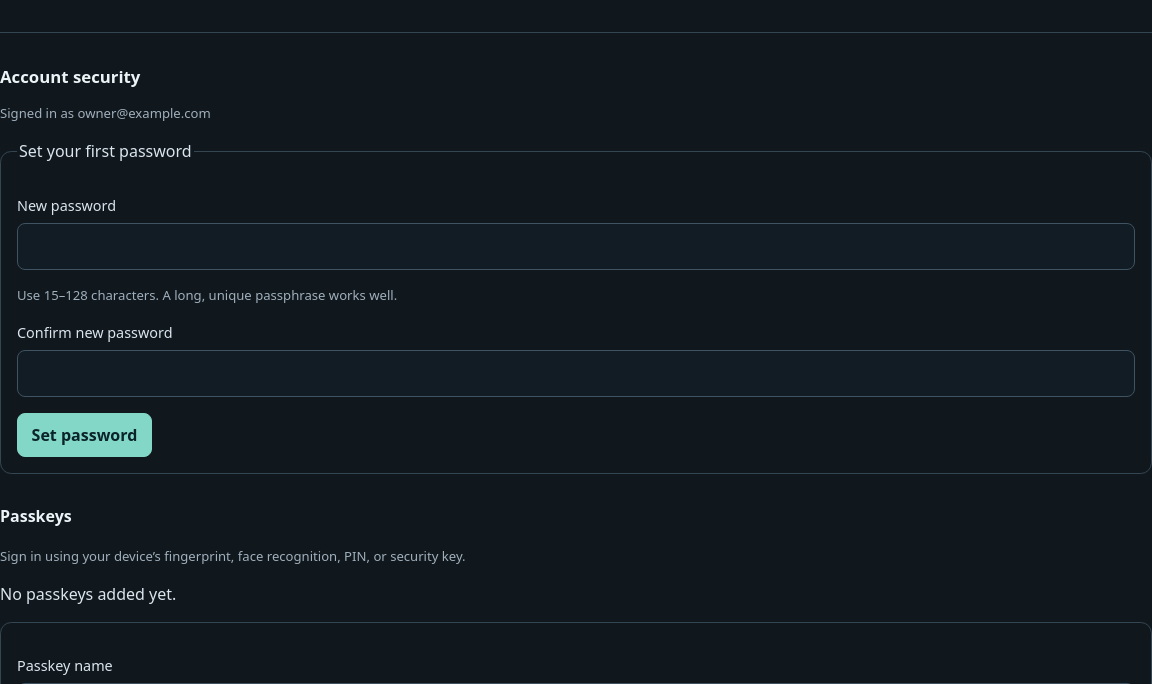
Scenario: account security › requires 15 characters before requesting a password change
In the password field labelled "New password": point(576, 247) [17, 223, 1135, 270], type "too short"
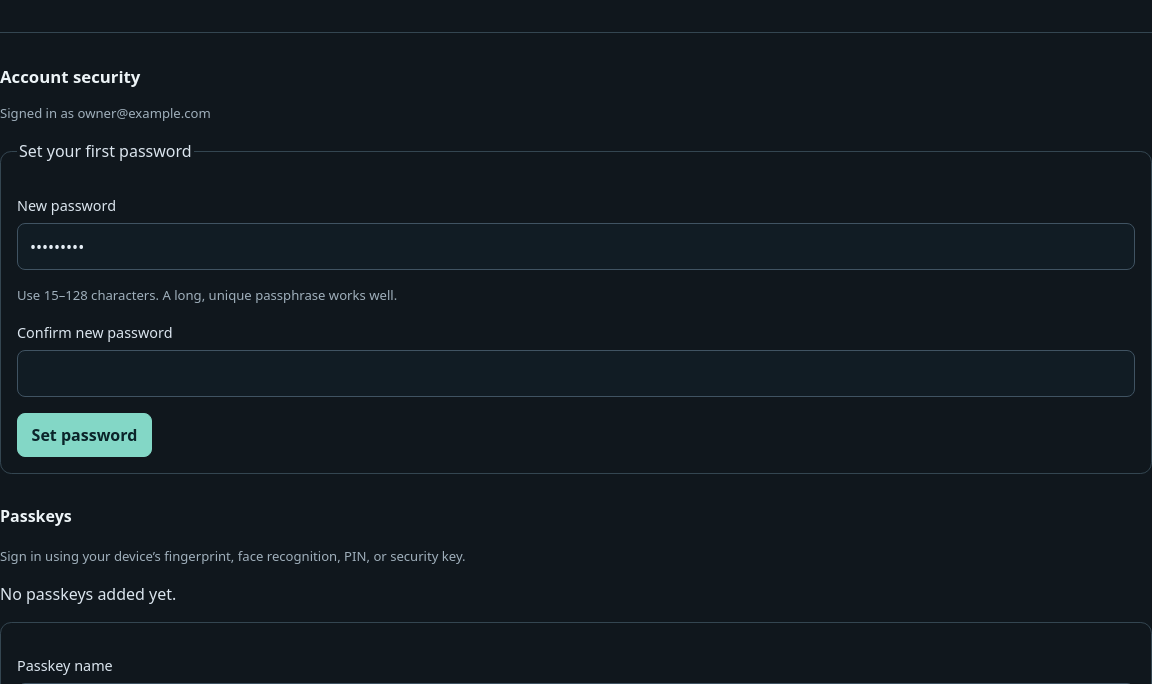
In the password field labelled "Confirm new password": point(576, 373) [17, 350, 1135, 396], type "too short"
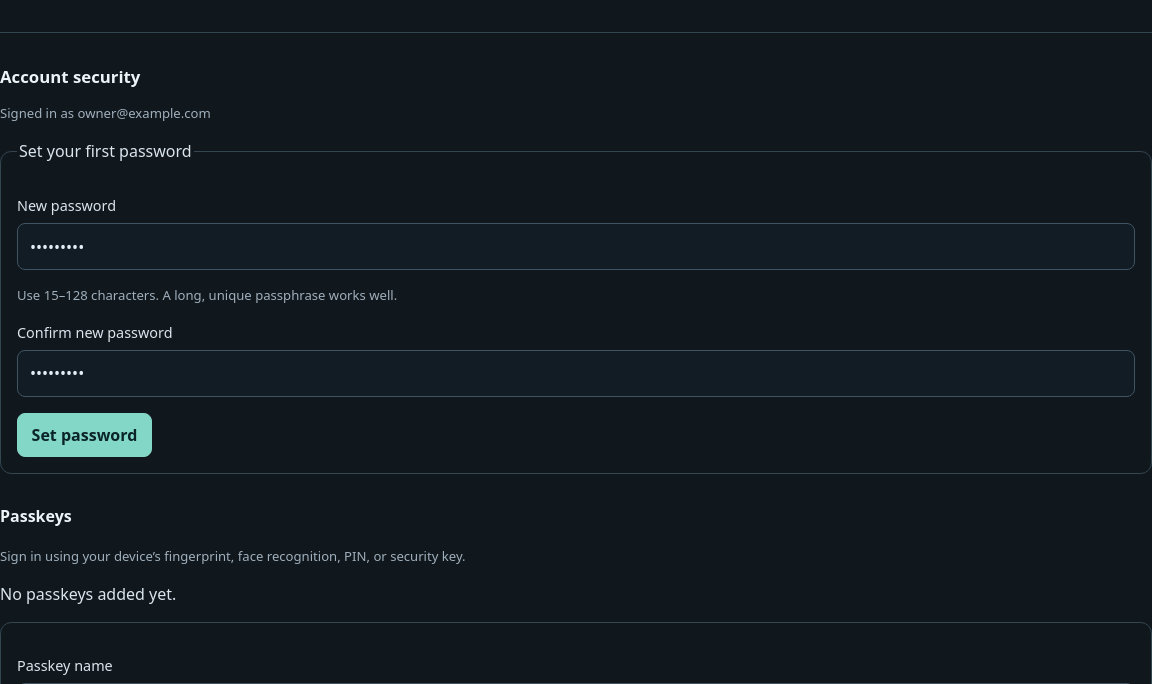
Submit the form named "Manage password", box [0, 139, 1151, 474]
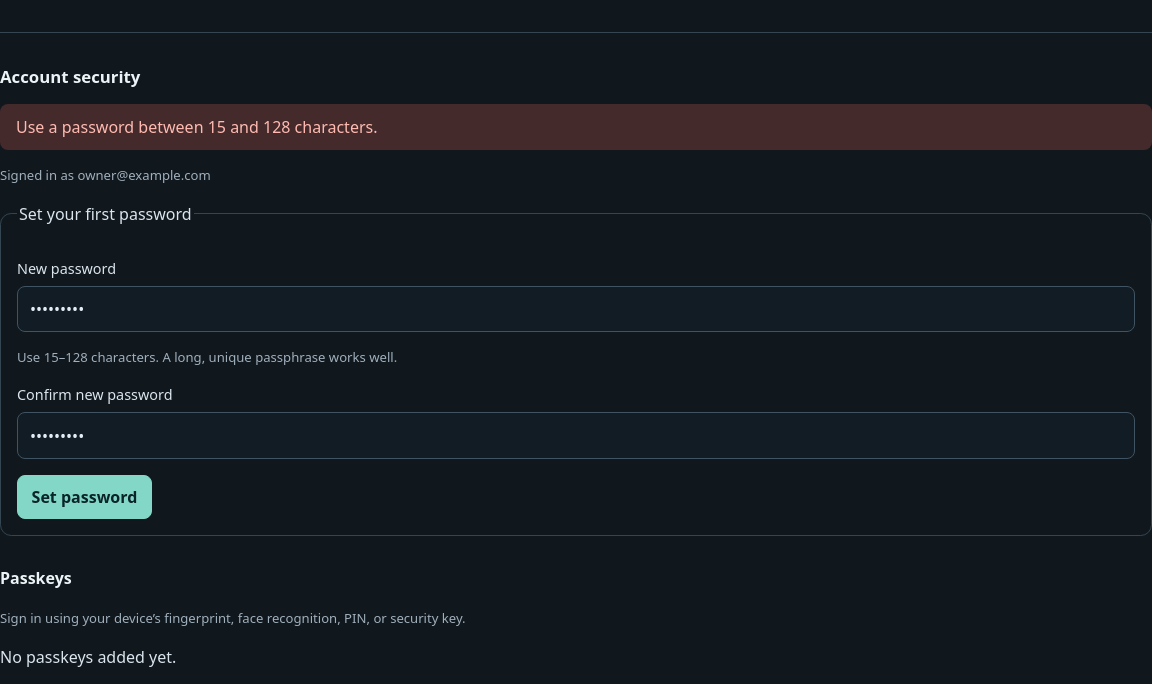
Now the message shows "15 and 128", box [16, 116, 378, 138]
